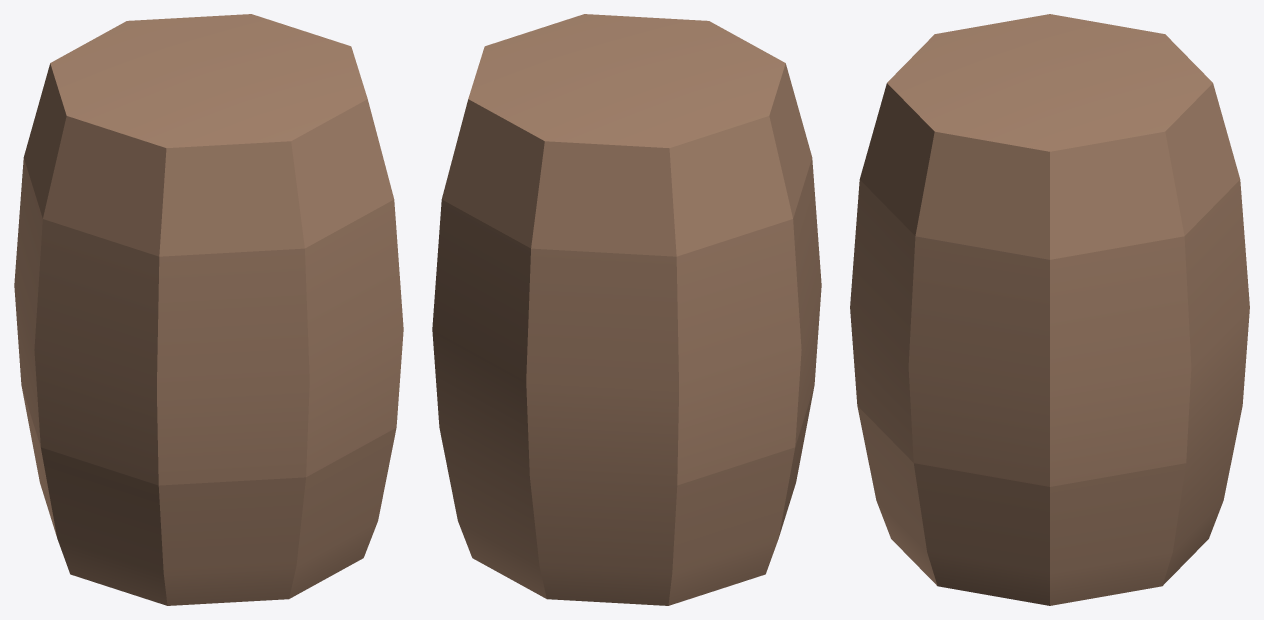
The model's file is CI_Barrel.fbx.
The picture shows the model from 3 angles, left to right: view 1: azimuth 30°, elevation 25°; view 2: azimuth 150°, elevation 25°; view 3: azimuth 270°, elevation 25°; orthographic projection.
Parts seen in each view (by area): view 1: CI_Barrel; view 2: CI_Barrel; view 3: CI_Barrel.
Part boxes in pixels (x1,y1,x2,y2): CI_Barrel: [14, 14, 403, 605]; CI_Barrel: [432, 14, 821, 605]; CI_Barrel: [850, 14, 1249, 605].
Size of the model in its own units: 21.45 by 27.35 by 21.45.
